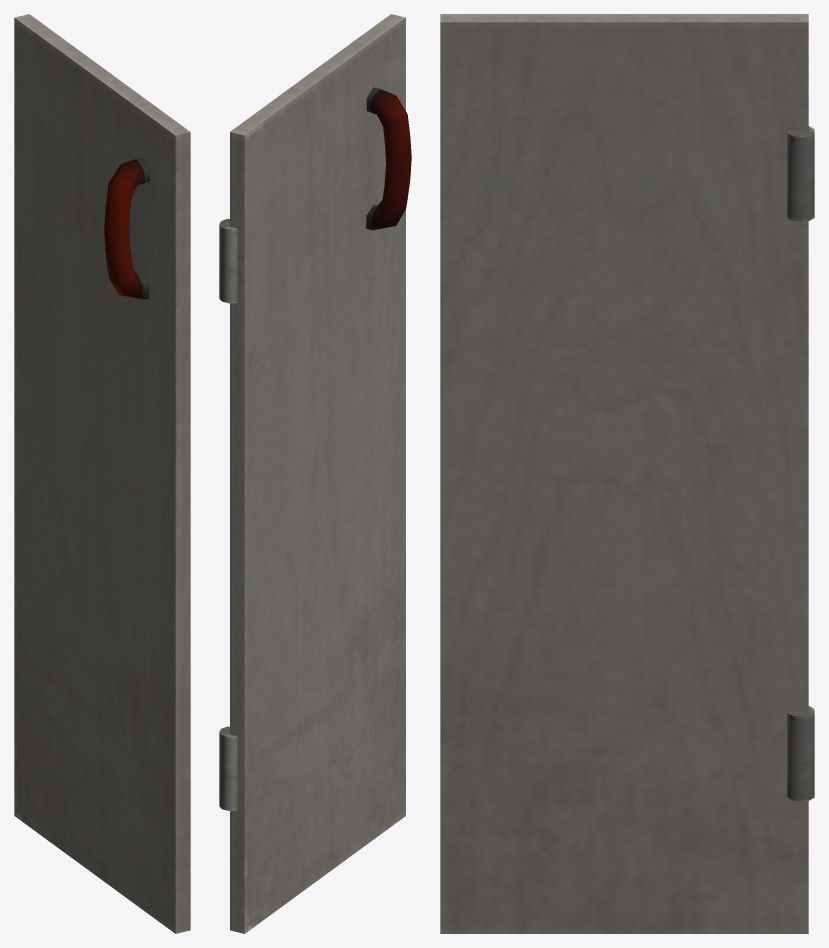
File: sink_kitchen_door.dae
The picture shows the model from 3 angles, left to right: view 1: azimuth 30°, elevation 25°; view 2: azimuth 150°, elevation 25°; view 3: azimuth 270°, elevation 25°; orthographic projection. The views are drawn at different scales.
Parts seen in each view (by area): view 1: sink_kitchen_door; view 2: sink_kitchen_door; view 3: sink_kitchen_door.
Boxes of the visible parts, <box> form: sink_kitchen_door: <box>14,14,190,933</box>; sink_kitchen_door: <box>219,14,411,933</box>; sink_kitchen_door: <box>440,14,814,933</box>.
Bounding box in the file's own units: 0.0737 × 0.8637 × 0.3214.
Materials: 1 (1 with a texture image).
